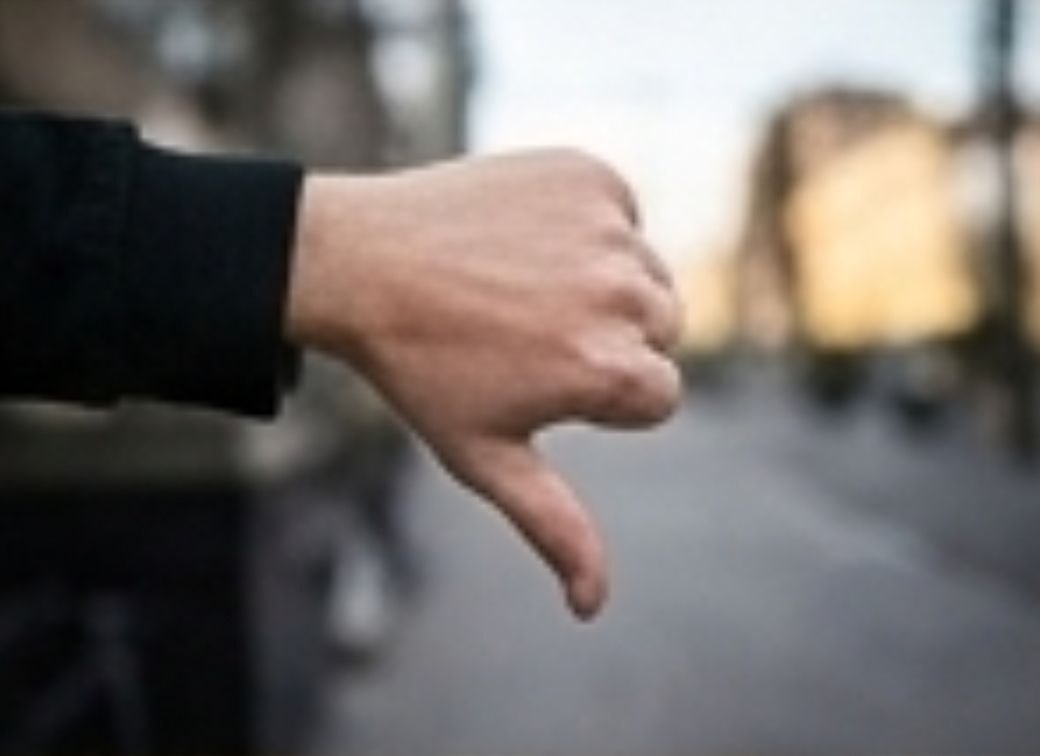Thumbs down: (356, 144, 709, 628)
